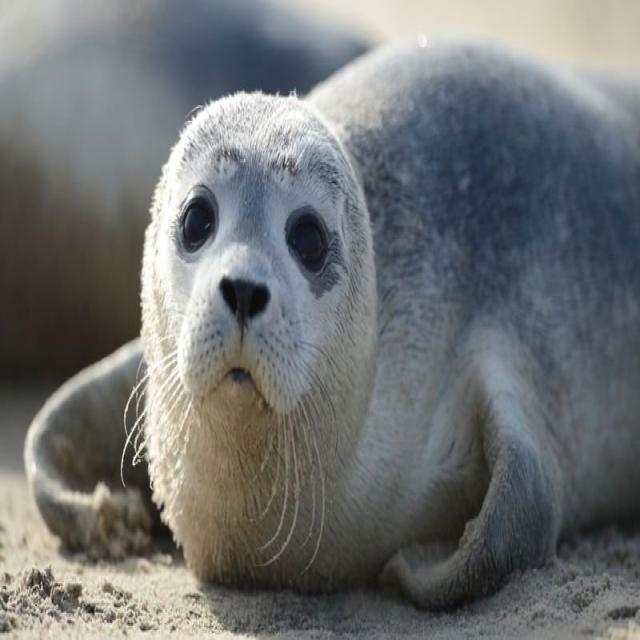seal: (142, 44, 639, 607)
